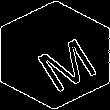M_NW: (18, 22, 92, 88)
